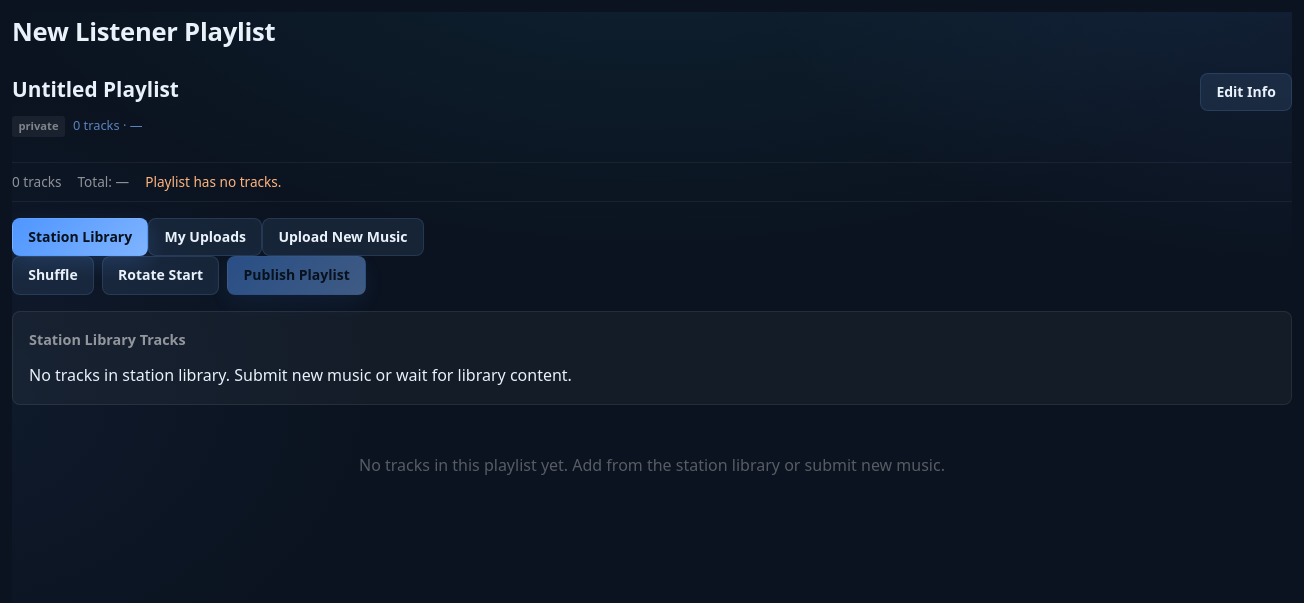
Test: listener playlist editor owner-track upload › adds a newly published listener-owned track immediately and shows pending station review
Click the button "Upload New Music" at (343, 237), box [262, 218, 424, 256]
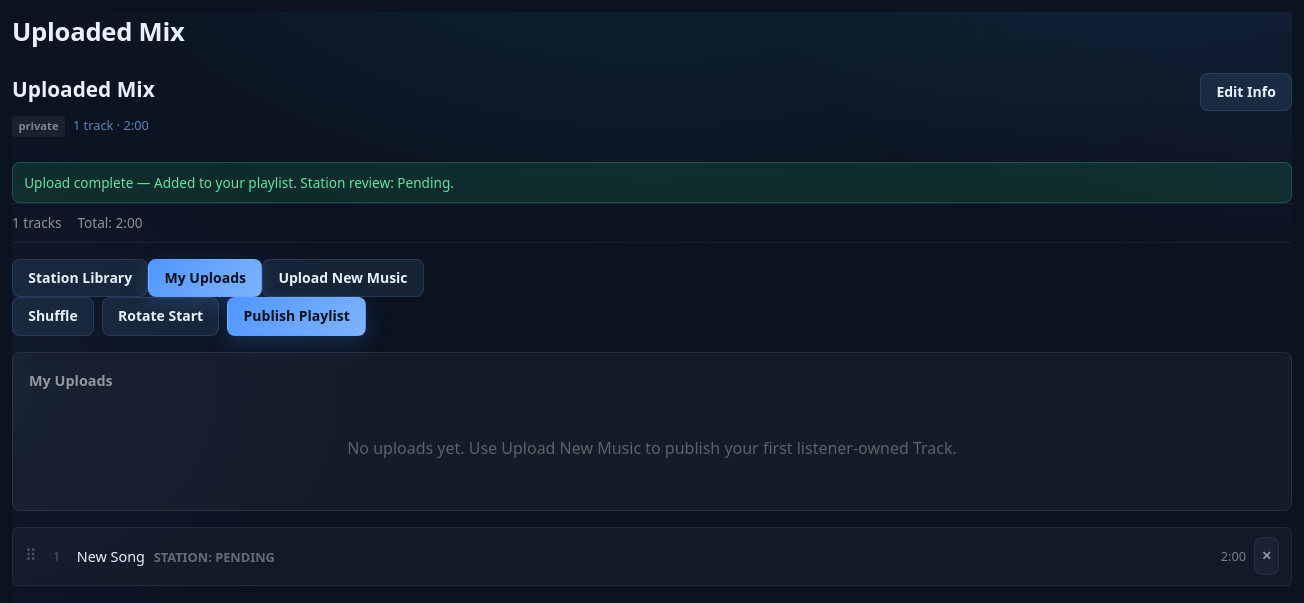
Check: the text "Upload complete — Added to your playlist. Station review: Pending." is shown, box [12, 162, 1292, 203]
Check: the text "New Song" is shown, box [77, 547, 145, 566]
